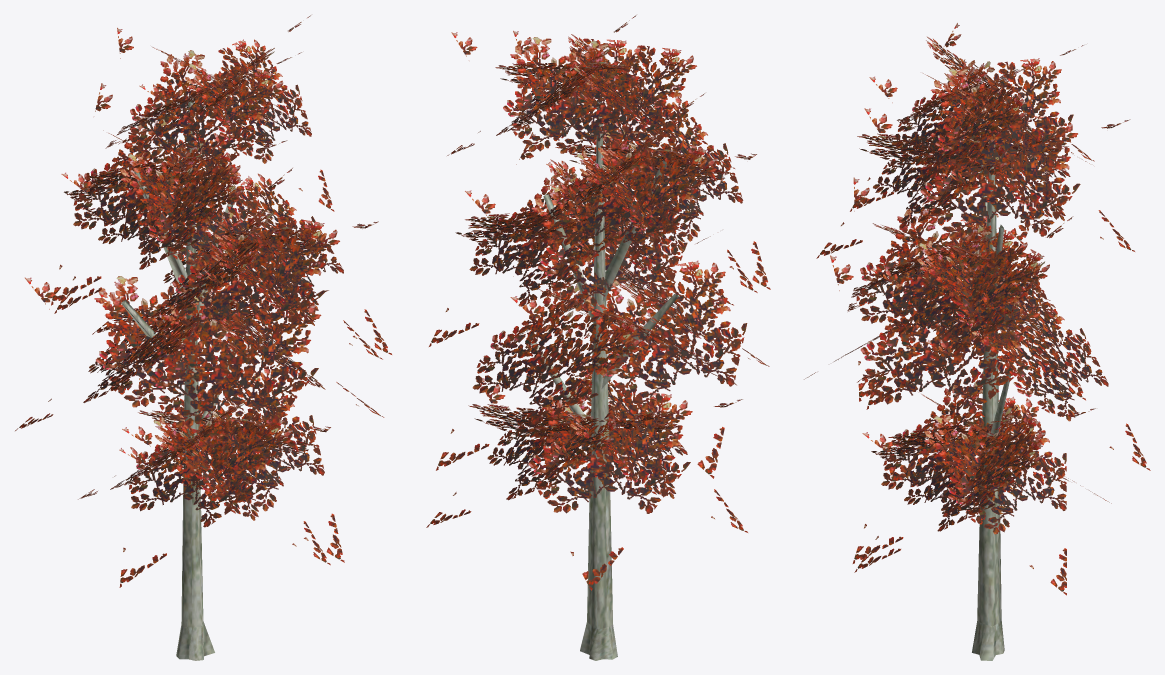
File: flora_tree_euro_beech_aut.glb
3 renders of one model, left to right at view 1: azimuth 30°, elevation 25°; view 2: azimuth 150°, elevation 25°; view 3: azimuth 270°, elevation 25°, orthographic.
Visible parts, largest first — view 1: flora_tree_euro_beech_aut_part1, flora_tree_euro_beech_aut_part0; view 2: flora_tree_euro_beech_aut_part1, flora_tree_euro_beech_aut_part0; view 3: flora_tree_euro_beech_aut_part1, flora_tree_euro_beech_aut_part0.
Boxes of the visible parts, x1=… form: flora_tree_euro_beech_aut_part1: x1=15, y1=15, x2=391, y2=587; flora_tree_euro_beech_aut_part0: x1=121, y1=101, x2=246, y2=660; flora_tree_euro_beech_aut_part1: x1=426, y1=15, x2=770, y2=590; flora_tree_euro_beech_aut_part0: x1=530, y1=101, x2=678, y2=660; flora_tree_euro_beech_aut_part1: x1=804, y1=23, x2=1150, y2=595; flora_tree_euro_beech_aut_part0: x1=972, y1=101, x2=1010, y2=660.
Size of the model in its own units: 10.16 by 19.4 by 10.39.
Materials: 2 (2 with a texture image).
